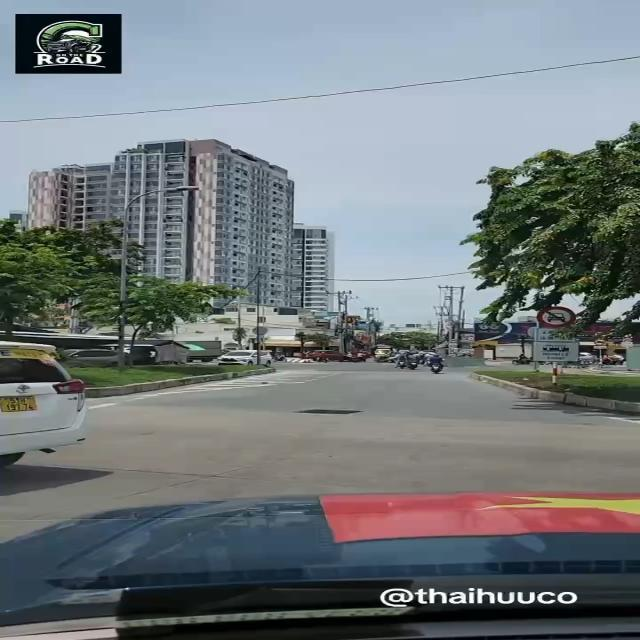103a-cam-oto: (536, 306, 576, 329)
